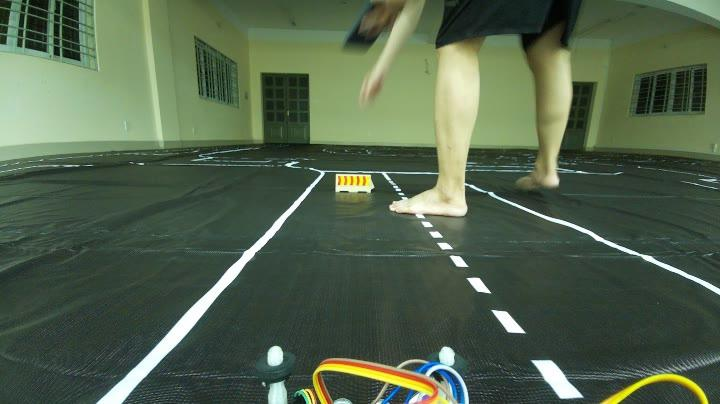roadblock: (327, 162, 379, 196)
